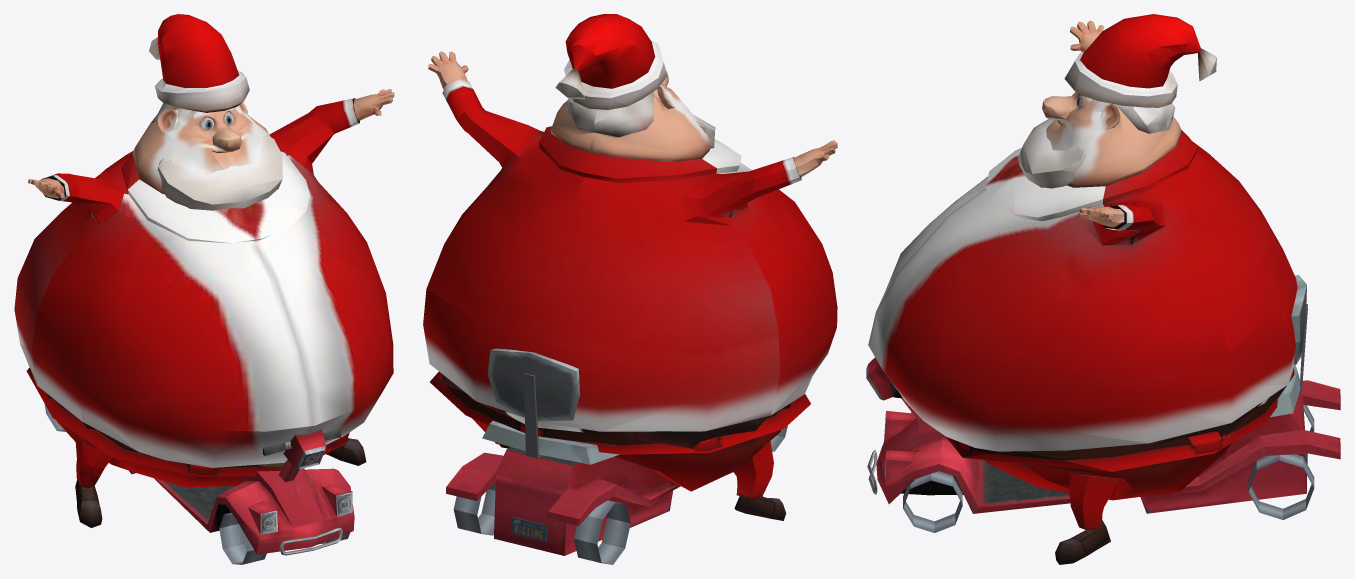
Rendered from fat_mayor_as_santa_claus.glb.
3 views of the same model, side by side, from view 1: azimuth 30°, elevation 25°; view 2: azimuth 150°, elevation 25°; view 3: azimuth 270°, elevation 25° (orthographic). The views are drawn at different scales.
Visible parts, largest first — view 1: Object_2, Object_4, Object_3; view 2: Object_2, Object_3, Object_4; view 3: Object_2, Object_3, Object_4.
Part boxes in pixels (bbox=[...]): Object_2: bbox=[14, 89, 394, 488]; Object_4: bbox=[26, 14, 366, 527]; Object_3: bbox=[44, 403, 354, 564]; Object_2: bbox=[423, 51, 837, 498]; Object_3: bbox=[446, 348, 787, 564]; Object_4: bbox=[430, 14, 810, 520]; Object_2: bbox=[868, 20, 1297, 530]; Object_3: bbox=[866, 275, 1340, 532]; Object_4: bbox=[946, 14, 1294, 564].
Bounding box in the file's own units: 1.78 × 2.12 × 1.85.
Materials: 3 (3 with a texture image).
